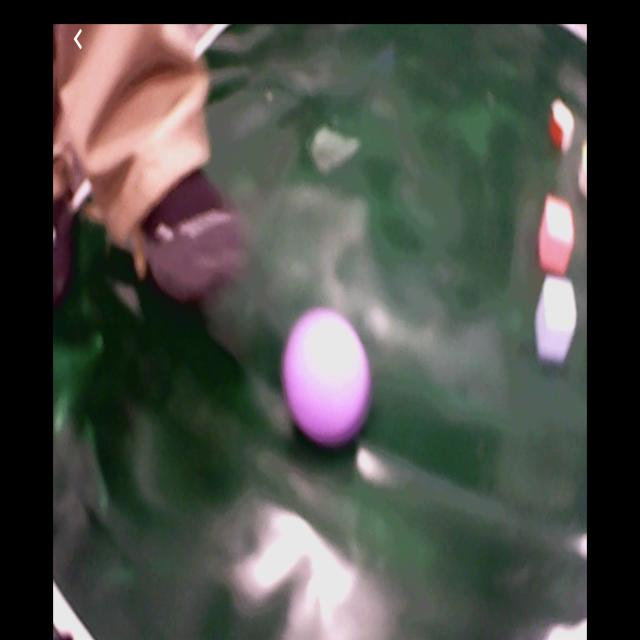ball: (285, 311, 371, 447)
